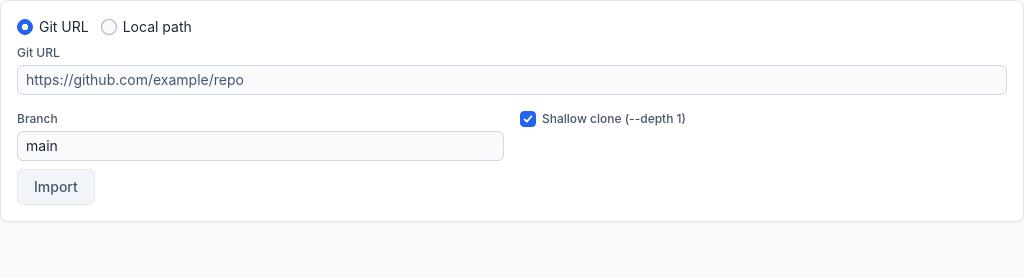
SourceRepoField — In-place sub-mode locked to Storage root › renders the Storage-root chip (no path input) when In-place is selected
Click the radio button labelled "Local path".
click(109, 27)  # box [101, 19, 117, 35]
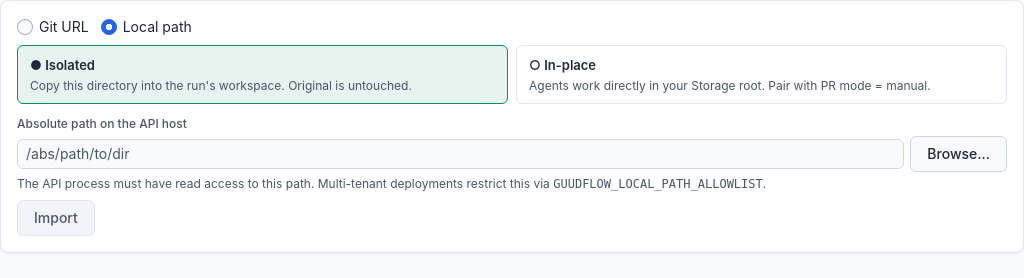
Click the button with test id "source-local-submode-in-place".
click(570, 65)  # box [516, 45, 1007, 104]
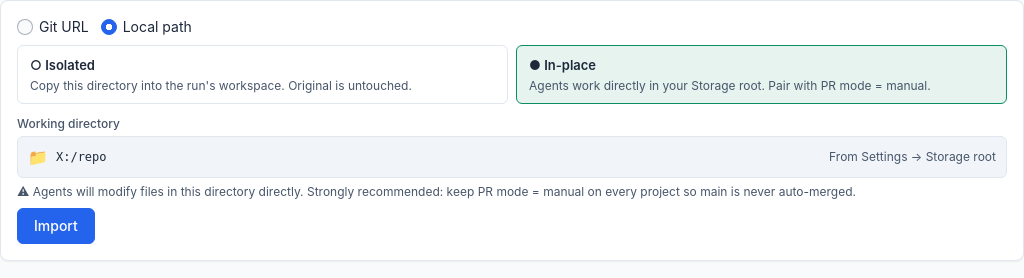
Now the element with test id "source-in-place-chip" shows "X:/repo", box [56, 150, 107, 164]
Now the field with placeholder "/abs/path/to/dir" is gone
